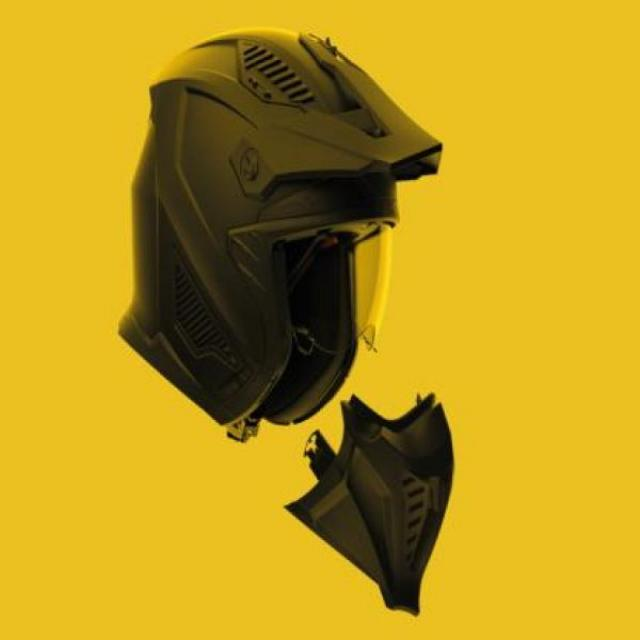Helmet: (127, 21, 478, 611)
